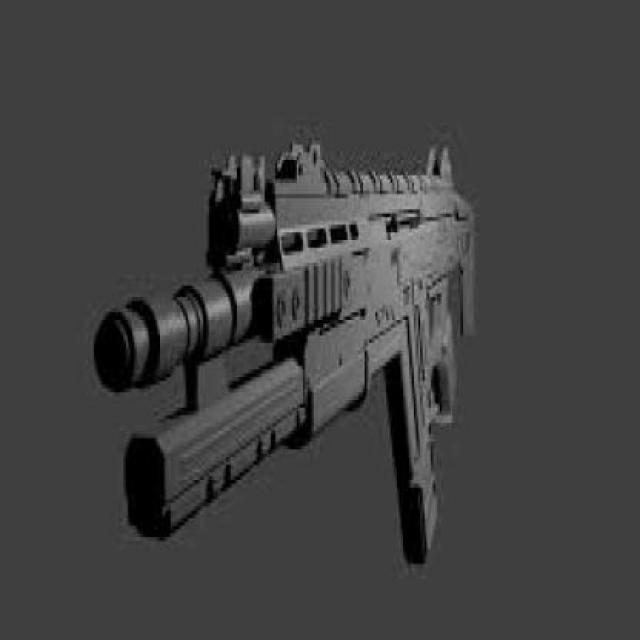weapon: (92, 146, 477, 569)
